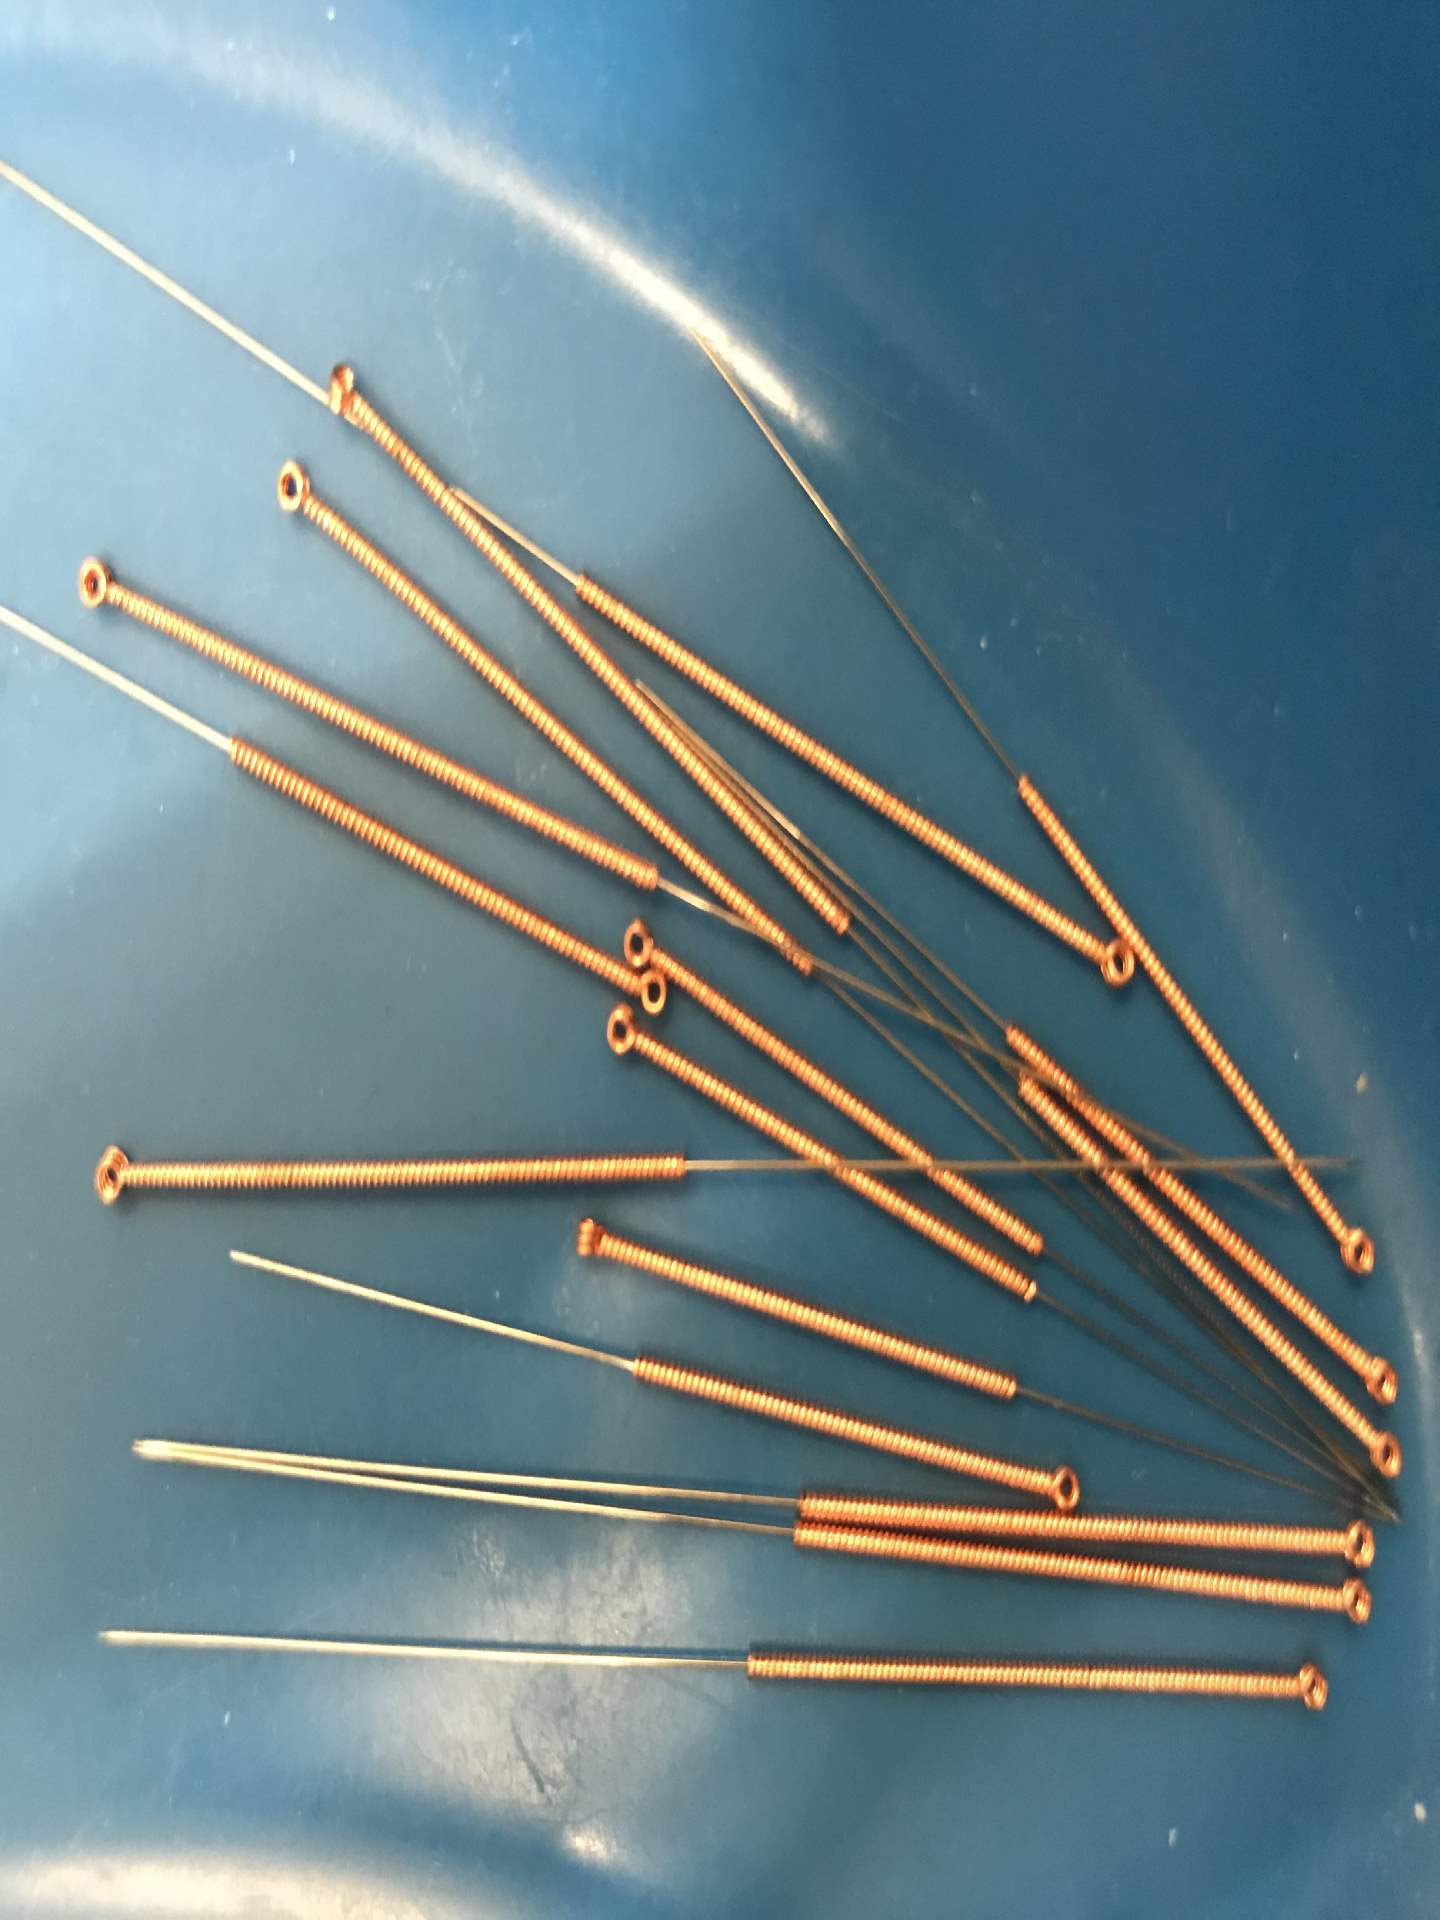needle: (73, 1135, 157, 1223), (1339, 1401, 1411, 1489), (312, 345, 381, 435), (1269, 1651, 1346, 1725), (262, 444, 327, 528), (1321, 1212, 1392, 1287), (61, 550, 138, 618), (1348, 1335, 1410, 1414), (557, 1205, 623, 1276), (1075, 931, 1141, 999), (594, 1005, 659, 1073), (1321, 1569, 1389, 1634), (1322, 1510, 1387, 1578), (1033, 1448, 1091, 1519), (613, 909, 669, 971), (607, 966, 675, 1014)
